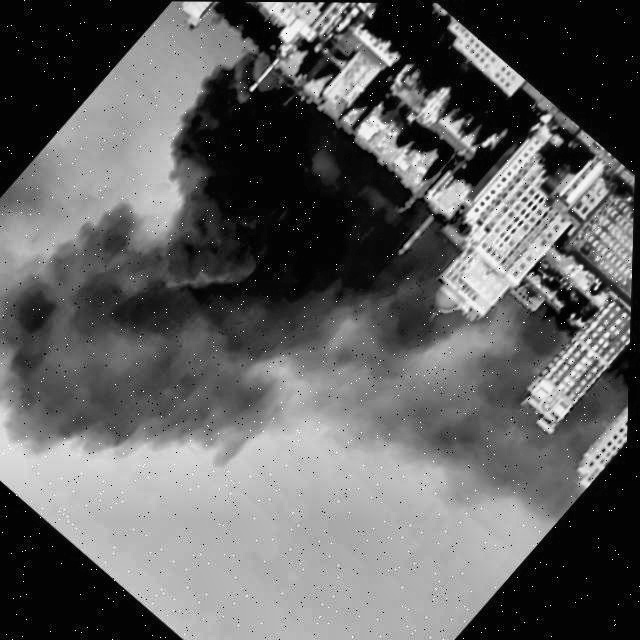Smoke: (0, 28, 528, 630)
